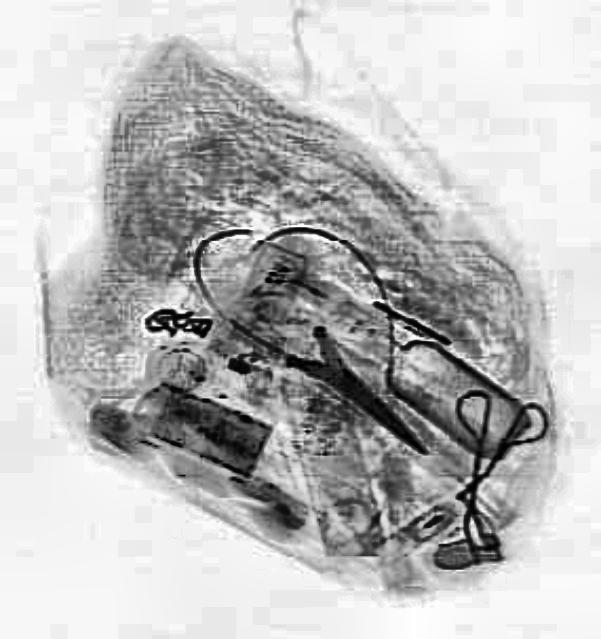Knife: (277, 318, 443, 472)
